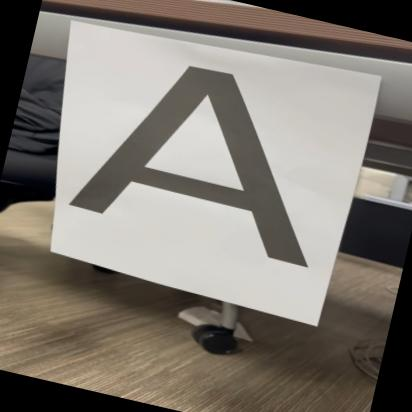seat: (65, 38, 354, 286)
